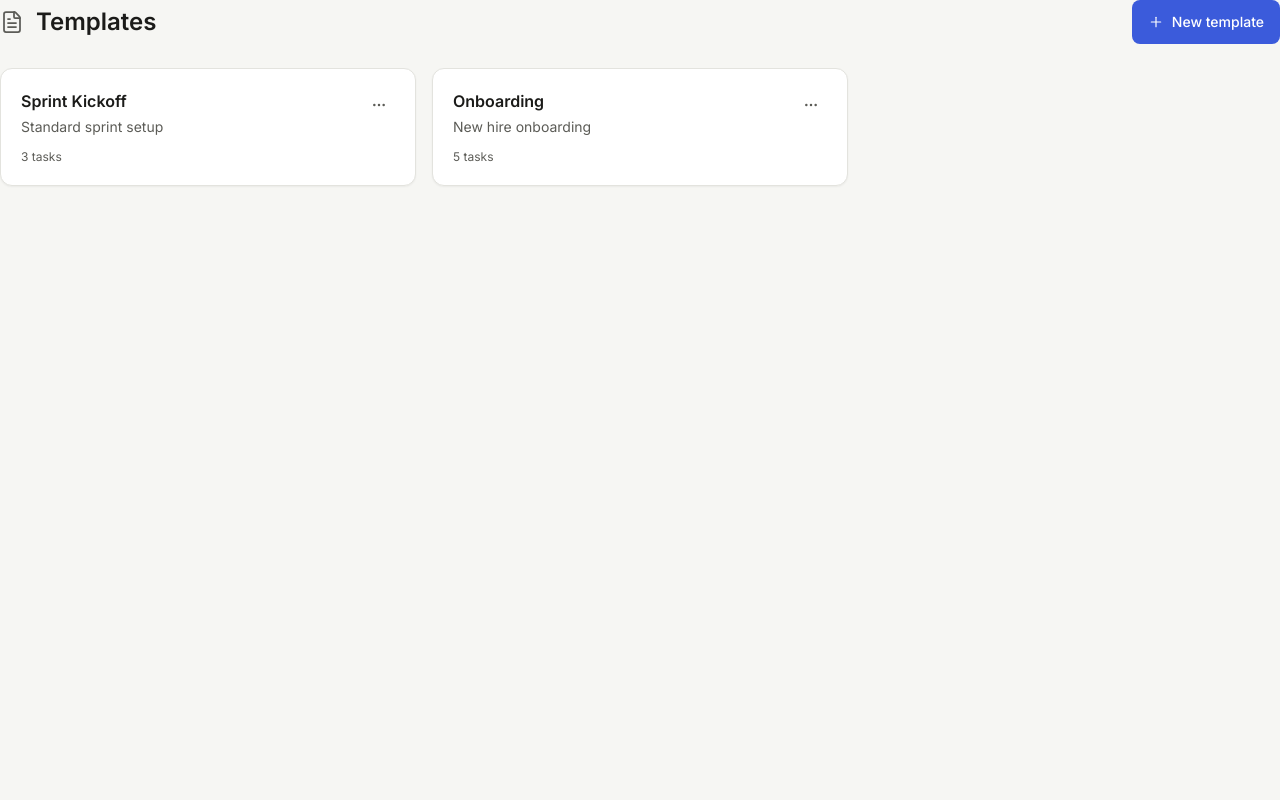
Test case: TemplatesPage › delete via actions menu shows ConfirmDialog
Click the button named "actions for sprint kickoff": point(379, 105) [363,89,395,121]
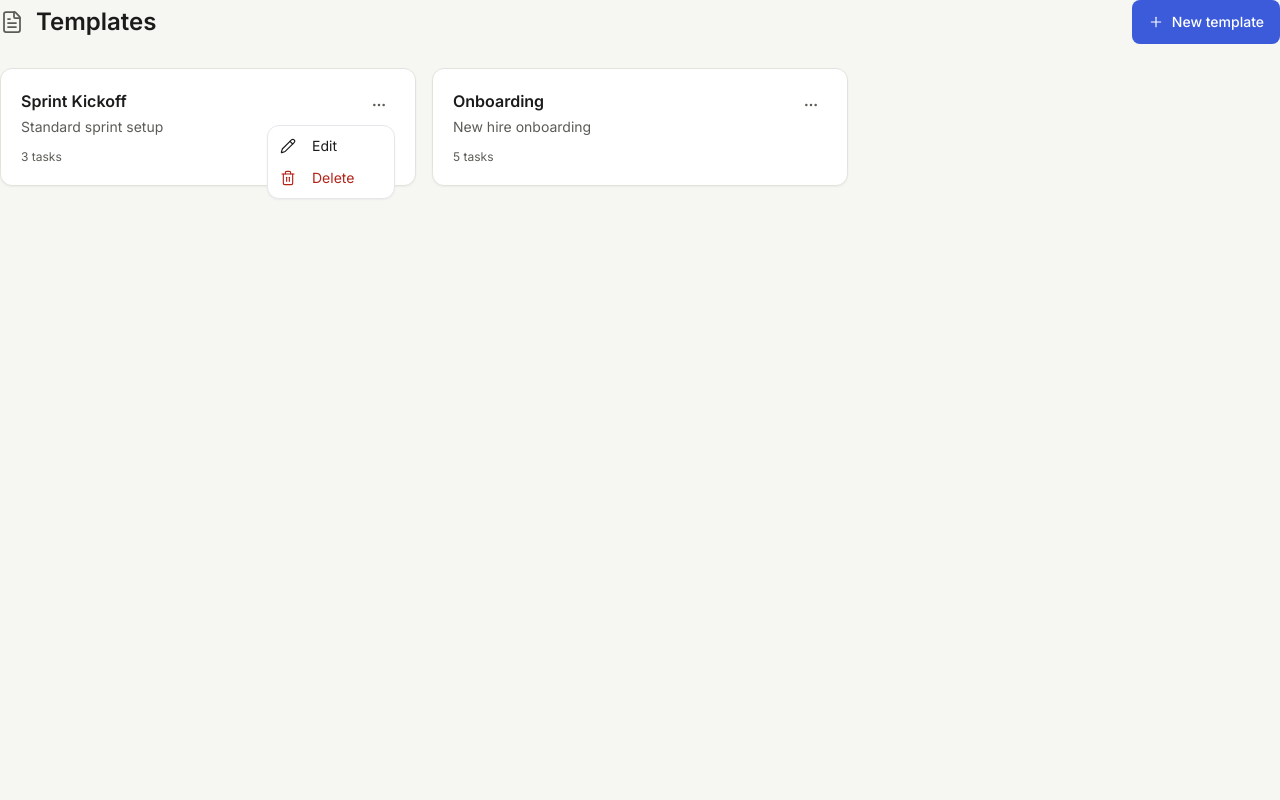
Click the menu item "Delete": point(317, 178) [280,169,354,186]
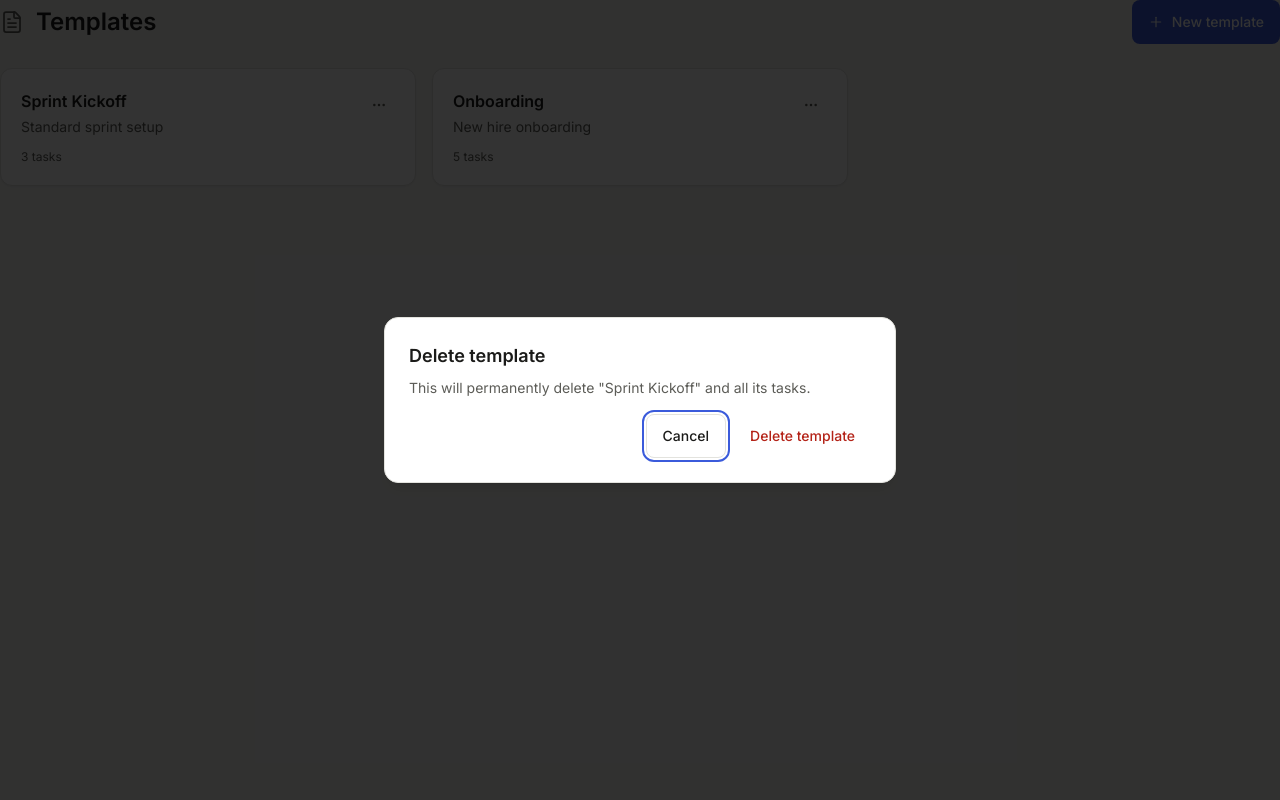
Expected: the dialog is shown, [384,317,896,483]
Expected: the heading "Delete template" is shown, [409,345,546,366]
